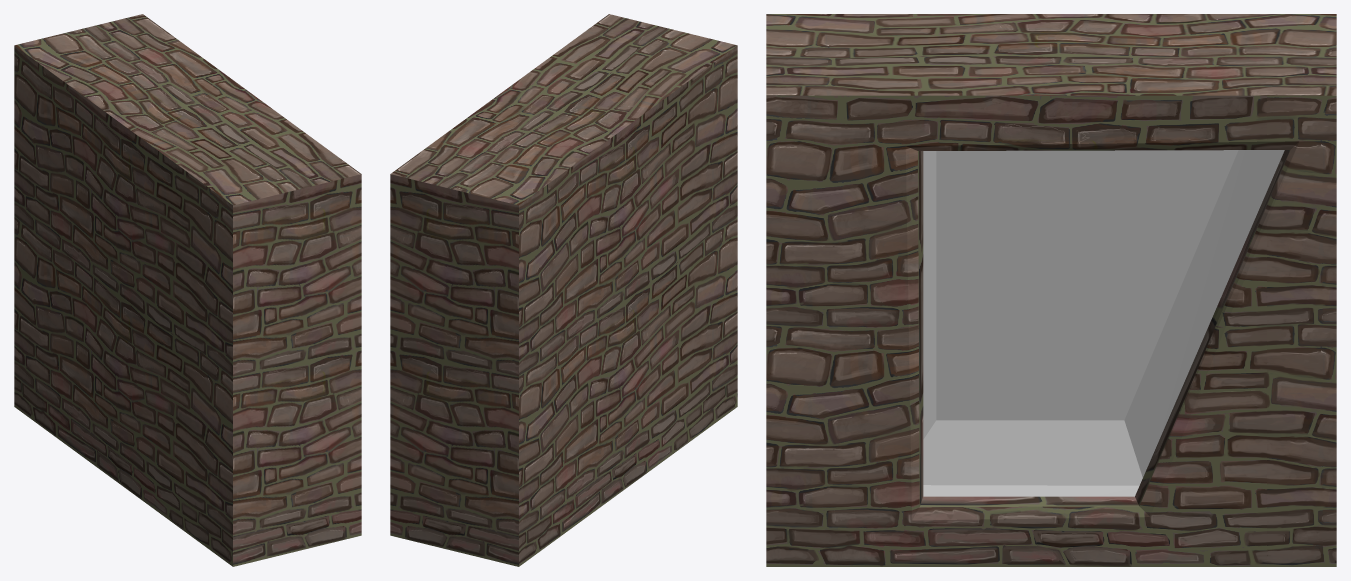
File: WallUpperHole.FBX
The picture shows the model from 3 angles, left to right: view 1: azimuth 30°, elevation 25°; view 2: azimuth 150°, elevation 25°; view 3: azimuth 270°, elevation 25°; orthographic projection. The views are drawn at different scales.
Parts seen in each view (by area): view 1: WallUpperHole; view 2: WallUpperHole; view 3: WallUpperHole.
Boxes of the visible parts, <box> form: WallUpperHole: <box>14,14,361,566</box>; WallUpperHole: <box>390,14,737,566</box>; WallUpperHole: <box>766,14,1336,566</box>.
Size of the model in its own units: 0.9367 by 2.76 by 2.52.
